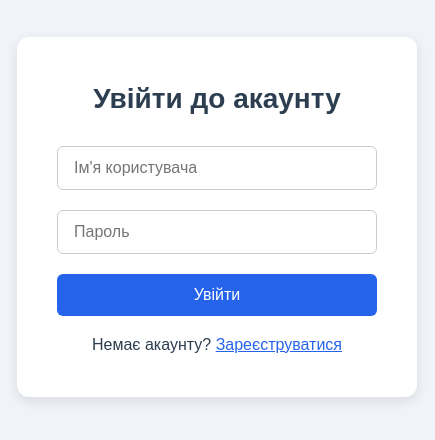
Test: LoginPage › shows error if fields are empty in login mode
Click the button "Увійти" at (217, 295), box [57,274,377,316]
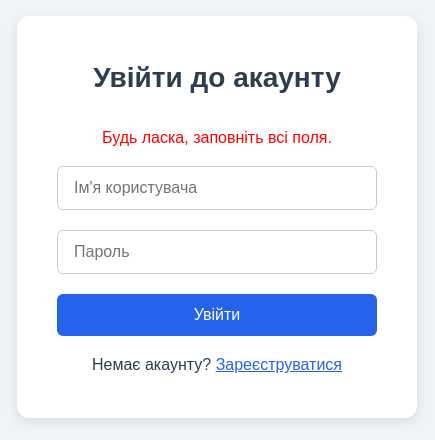
expect the text "Будь ласка, заповніть всі поля." is shown: met, box [102,129,332,146]
